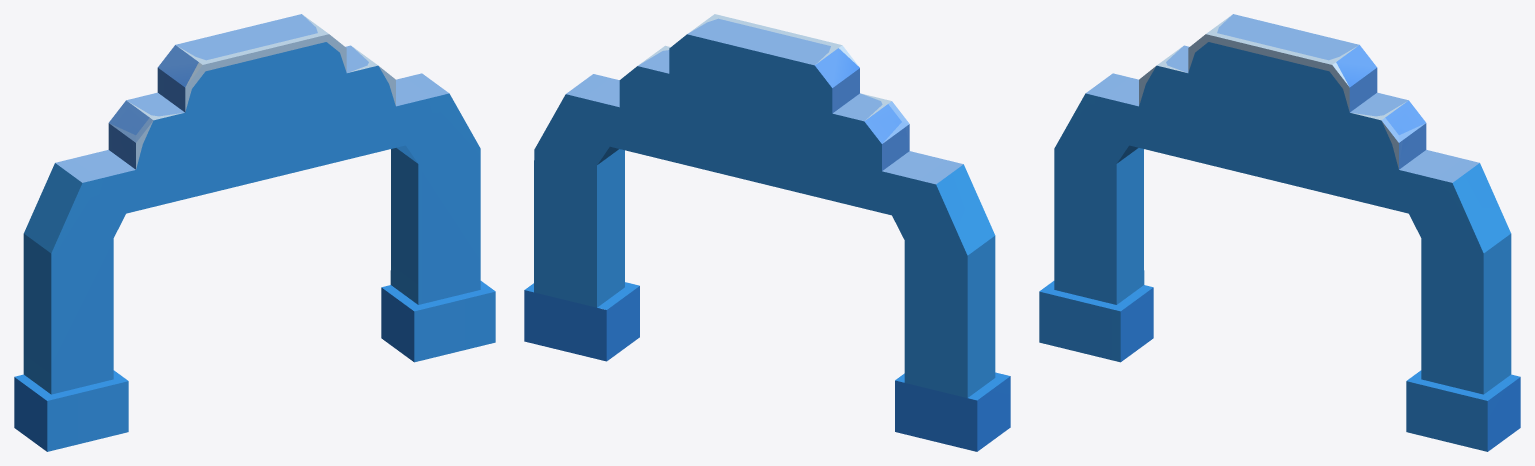
The model's file is Cong.002.gltf.
3 renders of one model, left to right at view 1: azimuth 30°, elevation 25°; view 2: azimuth 150°, elevation 25°; view 3: azimuth 330°, elevation 25°, orthographic.
Parts seen in each view (by area): view 1: Cong.002; view 2: Cong.002; view 3: Cong.002.
Boxes of the visible parts, x1,y1,x2,y2 form: Cong.002: [14, 14, 495, 451]; Cong.002: [524, 14, 1010, 451]; Cong.002: [1039, 14, 1520, 451].
Size of the model in its own units: 23.77 by 17.4 by 3.03.
Materials: 1 (1 with a texture image).
